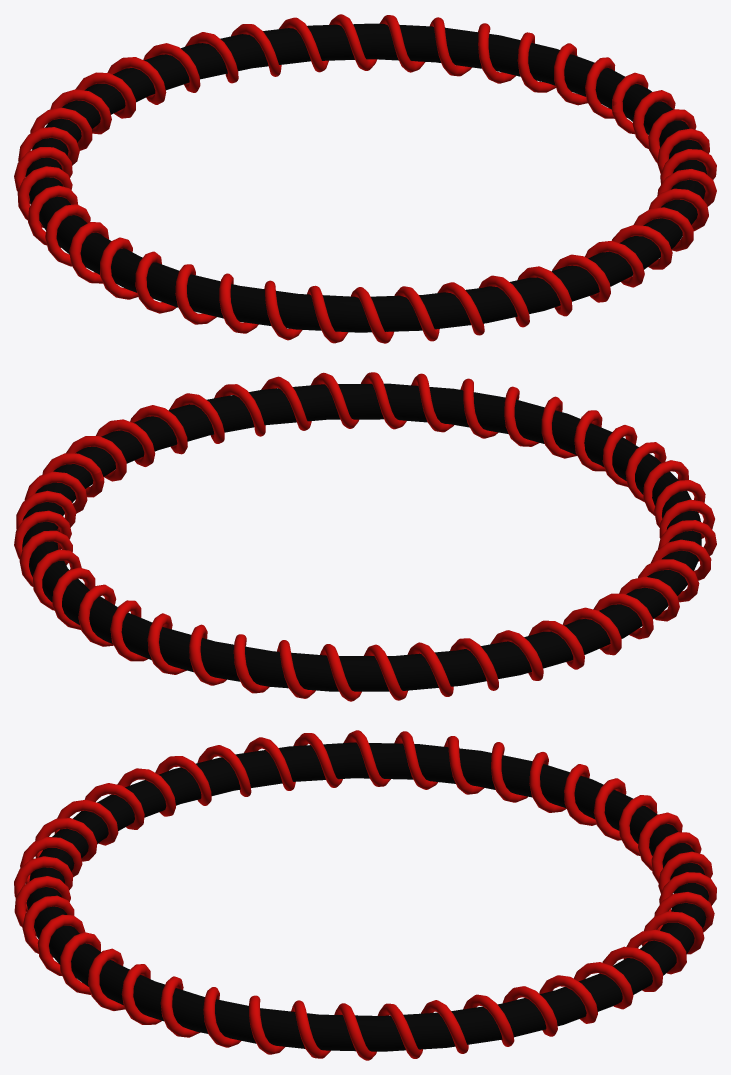
3 renders of one model, top to bottom at view 1: azimuth 30°, elevation 25°; view 2: azimuth 150°, elevation 25°; view 3: azimuth 270°, elevation 25°, orthographic.
Visible parts, largest first — view 1: Elec_Neck_002, Torus.003; view 2: Elec_Neck_002, Torus.003; view 3: Elec_Neck_002, Torus.003.
Boxes of the visible parts, <box> form: Elec_Neck_002: <box>14,14,716,343</box>; Torus.003: <box>25,23,706,332</box>; Elec_Neck_002: <box>14,372,716,701</box>; Torus.003: <box>22,383,701,691</box>; Elec_Neck_002: <box>14,730,716,1060</box>; Torus.003: <box>26,742,708,1051</box>.
Size of the model in its own units: 56.49 by 56.5 by 4.59.
